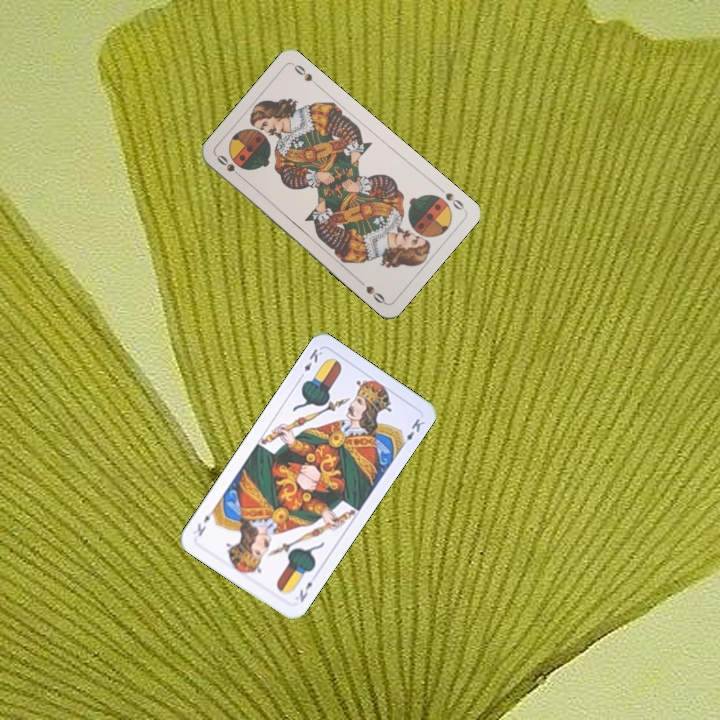EK: (295, 345, 325, 382), (295, 577, 315, 605)
SO: (213, 150, 246, 182), (434, 182, 467, 213)
